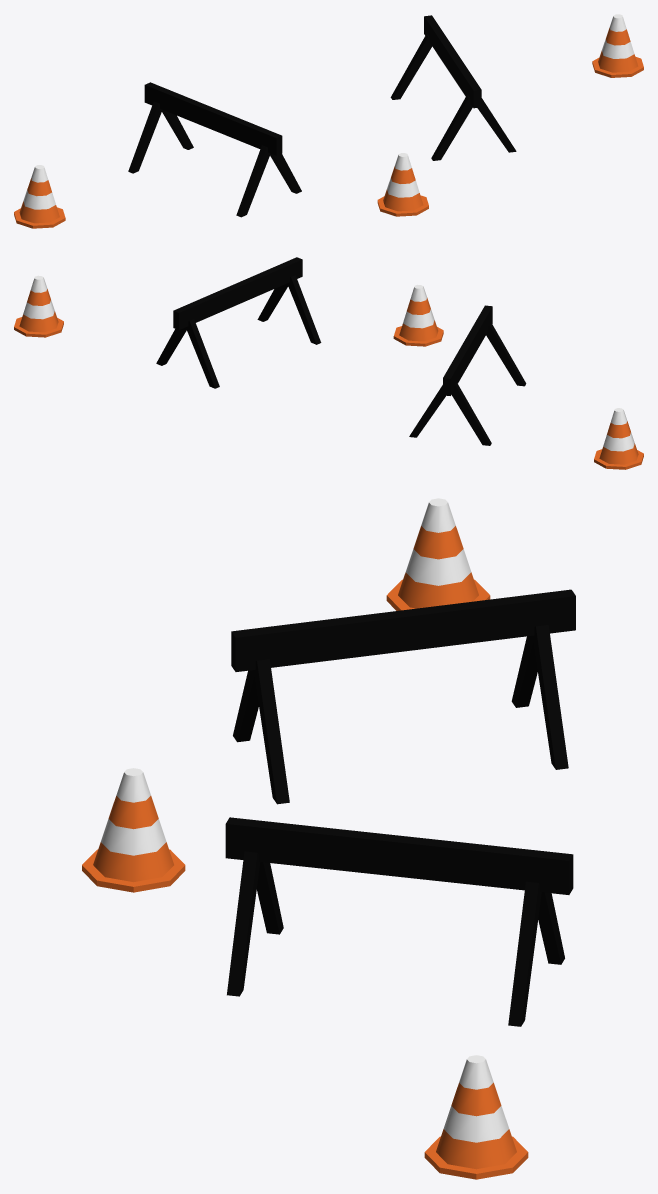
Rendered from WorkingArea_01.FBX.
3 views of the same model, one above another, from view 1: azimuth 30°, elevation 25°; view 2: azimuth 150°, elevation 25°; view 3: azimuth 270°, elevation 25° (orthographic). The views are drawn at different scales.
Visible parts, largest first — view 1: WorkingArea_01; view 2: WorkingArea_01; view 3: WorkingArea_01.
Boxes of the visible parts, x1,y1,x2,y2 form: WorkingArea_01: [14, 14, 643, 228]; WorkingArea_01: [14, 257, 643, 469]; WorkingArea_01: [82, 498, 575, 1179].
Bounding box in the file's own units: 19.56 × 2.18 × 6.8.
